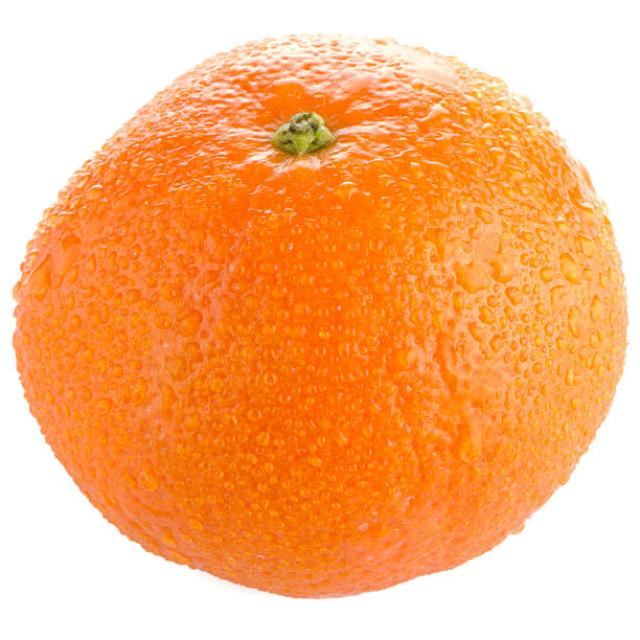Ripe: (8, 24, 640, 599)
